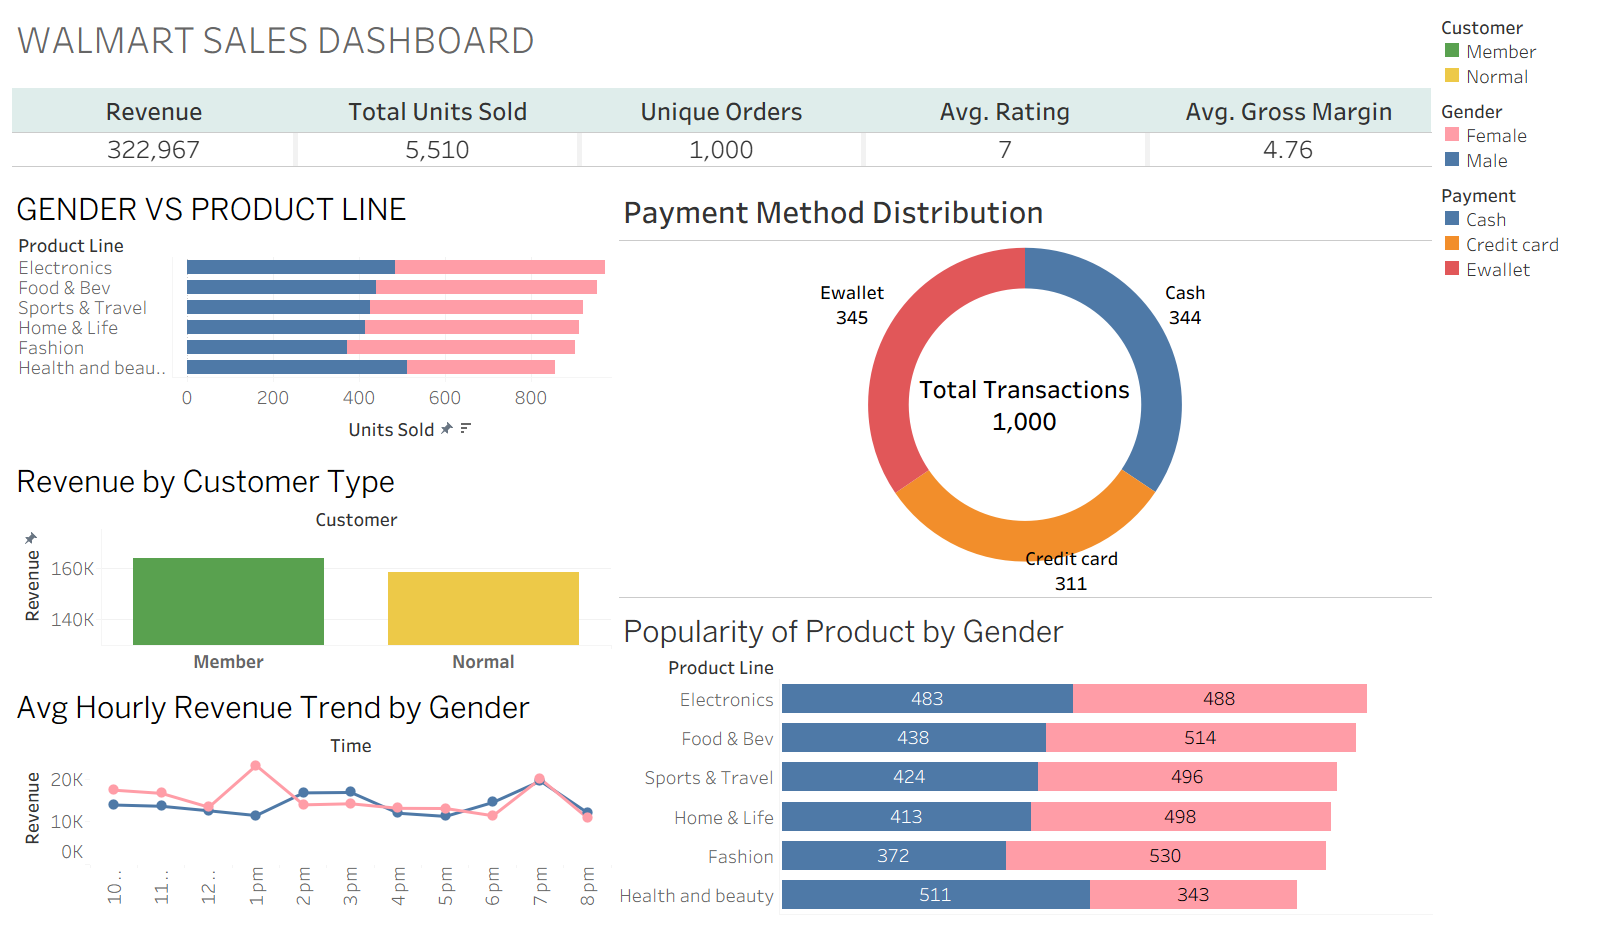

The page's visual inventory and layout, read from the dashboard file:
{"tool":"tableau","page":{"name":"Dashboard 1","canvas":[1000,1000],"units":"permille","ordinal":0},"visuals":[{"type":"text","box":[5,8.6,890.5,66.2]},{"type":"legend","title":"Revenue By Customer Type","param":"[federated.1eunw0n09zzv0b16c4tbh0yowmhz].[none:customer:nk]","box":[895.5,8.6,99.5,90.7]},{"type":"worksheet","title":"KPIs","mark":"Automatic","box":[5,74.9,890.5,119.3]},{"type":"legend","title":"Gender vs Product Line","param":"[federated.1eunw0n09zzv0b16c4tbh0yowmhz].[none:gender:nk]","box":[895.5,99.4,99.5,90.7]},{"type":"legend","title":"Payment Methods","param":"[federated.1eunw0n09zzv0b16c4tbh0yowmhz].[none:payment:nk]","box":[895.5,190.1,99.5,117.7]},{"type":"worksheet","title":"Gender vs Product Line","mark":"Bar","rows":["product_line"],"cols":["quantity"],"box":[5,194.2,378.6,293.7]},{"type":"worksheet","title":"Payment Methods","mark":"Pie","rows":["Calculation_720857446165118977","Calculation_720857446165118977"],"box":[383.6,194.2,511.9,455.7]},{"type":"worksheet","title":"Revenue By Customer Type","mark":"Automatic","rows":["total"],"cols":["customer"],"box":[5,487.9,378.6,244.2]},{"type":"worksheet","title":"Popular Product Gender Wise","mark":"Bar","rows":["product_line"],"cols":["quantity"],"box":[383.6,649.9,511.9,341.4]},{"type":"worksheet","title":"Hourly Revenue Trends","mark":"Line","rows":["total","total"],"cols":["time"],"box":[5,732.1,378.6,259.3]}]}

Visuals, with their boxes on the dashboard's canvas, which has no fixed pixel size, in thousandths of its width and height (x1, y1, x2, y2). These are canvas units, not pixel positions in the 1604x926 screenshot, which may show the page scaled, cropped or inside an application window:
text: [x1=5, y1=9, x2=896, y2=75]
"Revenue By Customer Type" legend: [x1=896, y1=9, x2=995, y2=99]
"KPIs" worksheet: [x1=5, y1=75, x2=896, y2=194]
"Gender vs Product Line" legend: [x1=896, y1=99, x2=995, y2=190]
"Payment Methods" legend: [x1=896, y1=190, x2=995, y2=308]
"Gender vs Product Line" worksheet (Bar marks): [x1=5, y1=194, x2=384, y2=488]
"Payment Methods" worksheet (Pie marks): [x1=384, y1=194, x2=896, y2=650]
"Revenue By Customer Type" worksheet: [x1=5, y1=488, x2=384, y2=732]
"Popular Product Gender Wise" worksheet (Bar marks): [x1=384, y1=650, x2=896, y2=991]
"Hourly Revenue Trends" worksheet (Line marks): [x1=5, y1=732, x2=384, y2=991]
